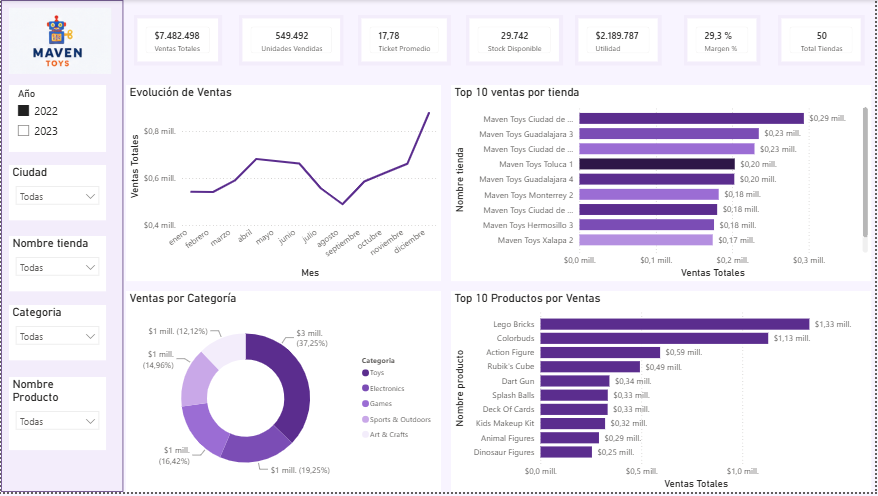

The page's visual inventory and layout, read from the dashboard file:
{"tool":"powerbi","page":{"name":"Resumen ejecutivo","canvas":[1280,720],"ordinal":0},"visuals":[{"type":"shape","box":[0,0,179,719.8],"z":0},{"type":"cardVisual","fields":{"Data":["MEDIDAS.Unidades Vendidas"]},"box":[347.6,22.2,153.4,73.6],"z":2000},{"type":"cardVisual","fields":{"Data":["MEDIDAS.Ticket Promedio"]},"box":[523.2,22.2,135.7,73.6],"z":3000},{"type":"cardVisual","fields":{"Data":["MEDIDAS.Stock Disponible"]},"box":[680.1,22.2,141.9,73.6],"z":4000},{"type":"lineChart","title":"Evolución de Ventas","fields":{"Category":["calendar.Date.Variación.Jerarquía de fechas.Mes"],"Y":["MEDIDAS.Ventas Totales"]},"box":[182.7,124.1,461.1,287.3],"z":6000},{"type":"donutChart","title":"Ventas por Categoría","fields":{"Category":["products.Product_Category"],"Y":["MEDIDAS.Ventas Totales"]},"box":[182.7,425.6,461.1,294.4],"z":7000},{"type":"image","box":[11.7,9.7,149.8,99.2],"z":8000},{"type":"slicer","title":"Ciudad","fields":{"Values":["stores.Store_City"]},"box":[11.5,242.1,141.9,80.7],"z":9000},{"type":"slicer","title":"Nombre tienda","fields":{"Values":["stores.Store_Name"]},"box":[11.5,344.9,141.9,80.7],"z":10000},{"type":"slicer","title":"Categoria","fields":{"Values":["products.Product_Category"]},"box":[11.5,446,141.9,80.7],"z":11000},{"type":"slicer","fields":{"Values":["calendar.Date.Variación.Jerarquía de fechas.Año"]},"box":[11.5,124.1,141.9,98.4],"z":12000},{"type":"barChart","title":"Top 10 Productos por Ventas","fields":{"Category":["products.Product_Name"],"Y":["MEDIDAS.Ventas Totales"]},"box":[658.8,425.6,615.4,294.4],"z":13000},{"type":"cardVisual","fields":{"Data":["MEDIDAS.Utilidad"]},"box":[839.7,22.2,126.8,73.6],"z":14000},{"type":"cardVisual","fields":{"Data":["MEDIDAS.Margen %"]},"box":[999.3,22.2,111.7,73.6],"z":15000},{"type":"slicer","title":"Nombre Producto","fields":{"Values":["products.Product_Name"]},"box":[11.5,551.5,141.9,107.3],"z":16000},{"type":"clusteredBarChart","title":"Top 10 ventas por tienda","fields":{"Category":["stores.Store_Name"],"Y":["MEDIDAS.Ventas Totales"]},"box":[658.8,124.1,615.4,287.3],"z":17000},{"type":"cardVisual","fields":{"Data":["MEDIDAS.Ventas Totales"]},"box":[194.2,22.2,128.6,73.6],"z":17001},{"type":"cardVisual","fields":{"Data":["MEDIDAS.Total Tiendas"]},"box":[1137.6,22.2,126.8,73.6],"z":17002}]}

Visuals, with their boxes in screenshot pixels (x1, y1, x2, y2), scaled from the page's 1280x720 canvas onto the 878x496 screenshot:
shape: [left=0, top=0, right=123, bottom=495]
cardVisual - MEDIDAS.Unidades Vendidas: [left=238, top=15, right=344, bottom=66]
cardVisual - MEDIDAS.Ticket Promedio: [left=359, top=15, right=452, bottom=66]
cardVisual - MEDIDAS.Stock Disponible: [left=467, top=15, right=564, bottom=66]
"Evolución de Ventas" lineChart: [left=125, top=85, right=442, bottom=283]
"Ventas por Categoría" donutChart: [left=125, top=293, right=442, bottom=495]
image: [left=8, top=7, right=111, bottom=75]
"Ciudad" slicer: [left=8, top=167, right=105, bottom=222]
"Nombre tienda" slicer: [left=8, top=238, right=105, bottom=293]
"Categoria" slicer: [left=8, top=307, right=105, bottom=363]
slicer - calendar.Date.Variación.Jerarquía de fechas.Año: [left=8, top=85, right=105, bottom=153]
"Top 10 Productos por Ventas" barChart: [left=452, top=293, right=874, bottom=495]
cardVisual - MEDIDAS.Utilidad: [left=576, top=15, right=663, bottom=66]
cardVisual - MEDIDAS.Margen %: [left=685, top=15, right=762, bottom=66]
"Nombre Producto" slicer: [left=8, top=380, right=105, bottom=454]
"Top 10 ventas por tienda" clusteredBarChart: [left=452, top=85, right=874, bottom=283]
cardVisual - MEDIDAS.Ventas Totales: [left=133, top=15, right=221, bottom=66]
cardVisual - MEDIDAS.Total Tiendas: [left=780, top=15, right=867, bottom=66]
